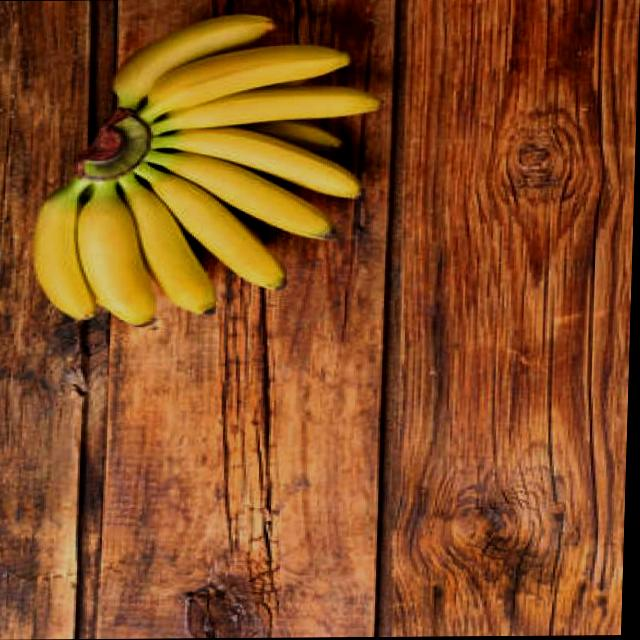banana: (27, 5, 394, 329)
